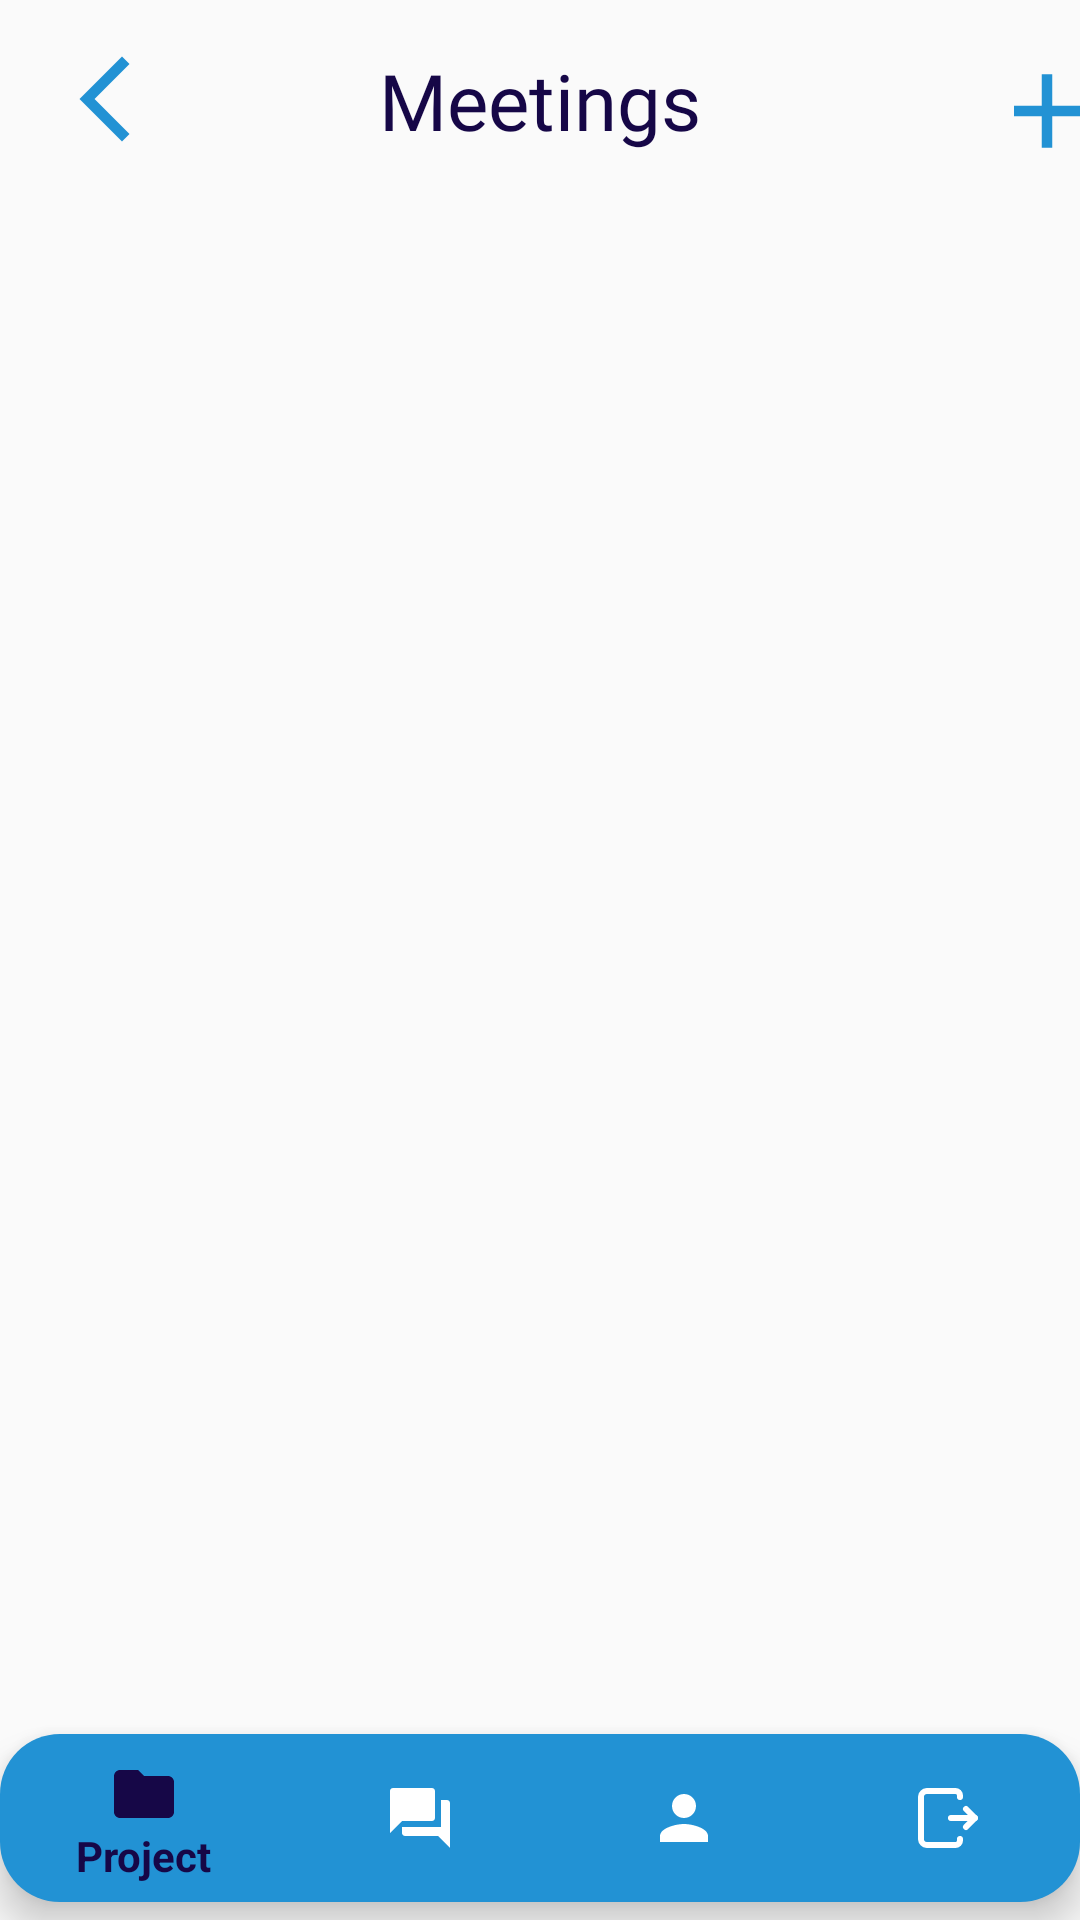

Point at icon controls on the screen. Image size 1080*1920, points as [x,y].
add: [1047,111]
back: [104,99]
